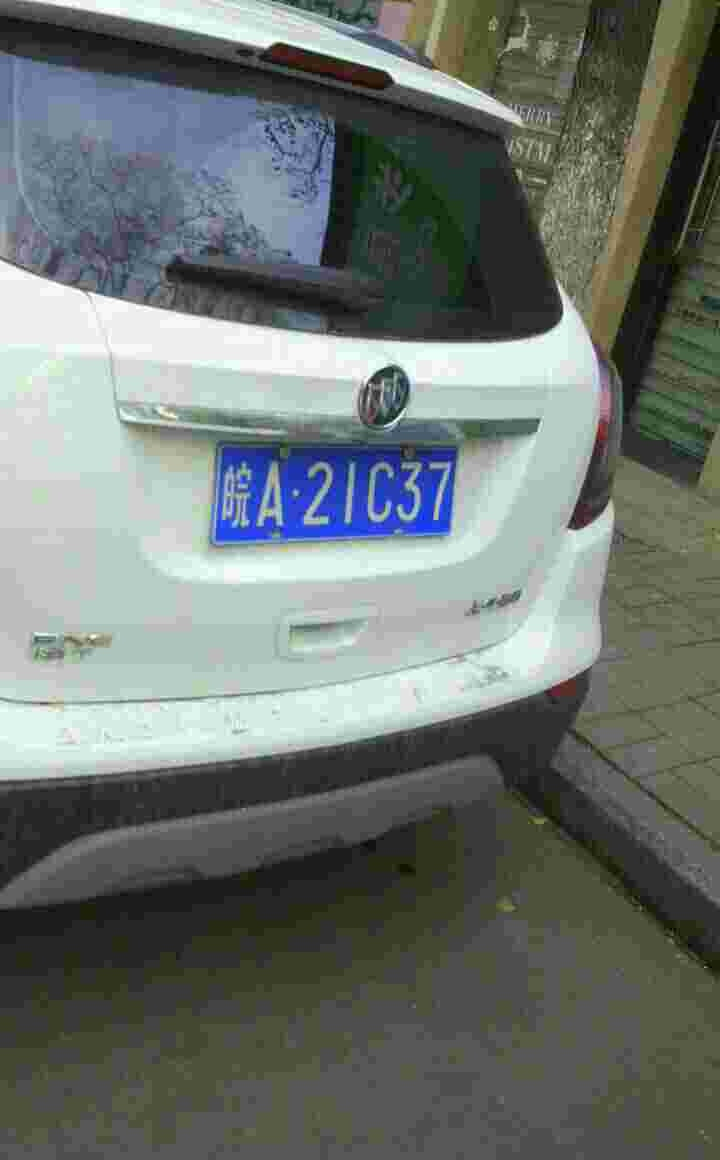license_plate: (209, 445, 452, 549)
